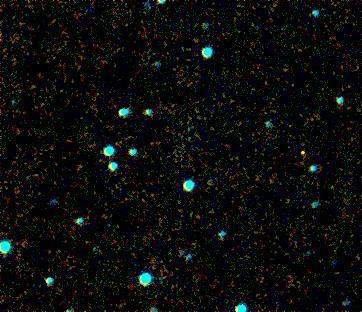star: (283, 138, 313, 168)
